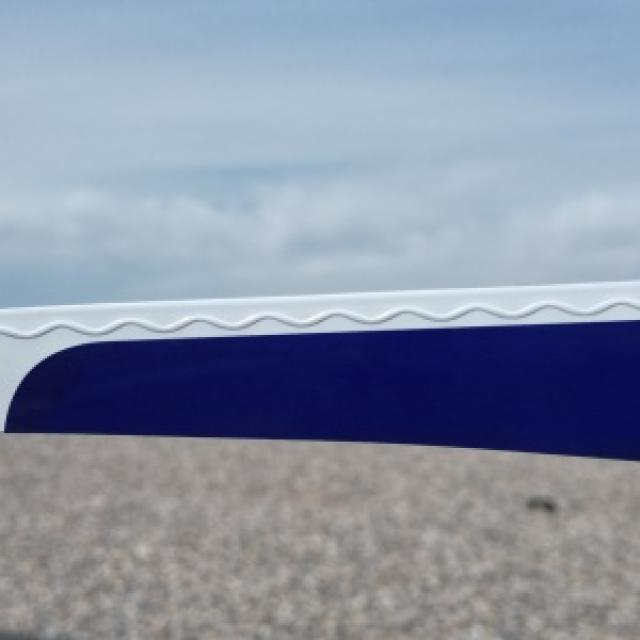healthy: (0, 279, 638, 459)
